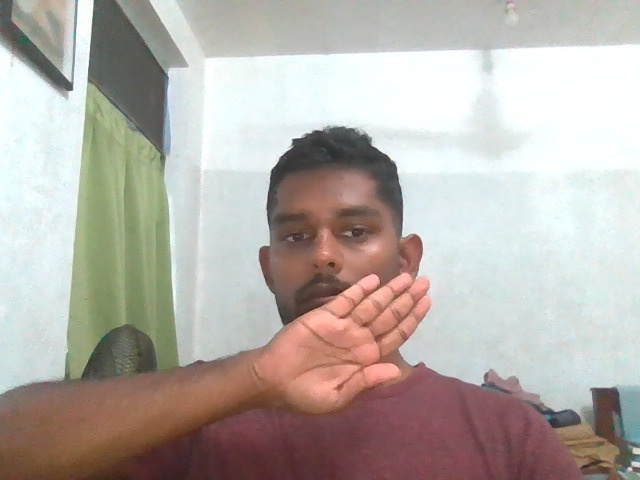bye: (240, 268, 442, 412)
